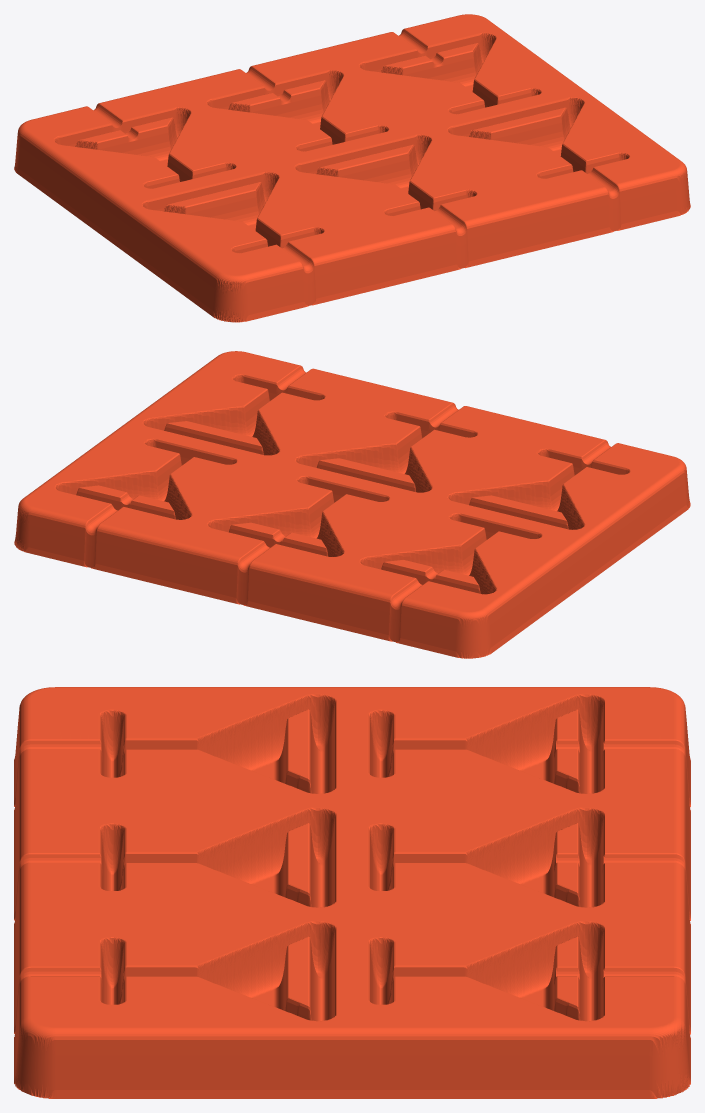
The model's file is mold.glb.
3 views of the same model, one above another, from view 1: azimuth 30°, elevation 25°; view 2: azimuth 150°, elevation 25°; view 3: azimuth 270°, elevation 25° (orthographic). The views are drawn at different scales.
Visible parts, largest first — view 1: geometry_0; view 2: geometry_0; view 3: geometry_0.
Part boxes in pixels (bbox=[...]): geometry_0: bbox=[14, 14, 690, 322]; geometry_0: bbox=[14, 351, 690, 658]; geometry_0: bbox=[14, 687, 690, 1098].
Size of the model in its own units: 0.1824 by 0.0155 by 0.1477.
